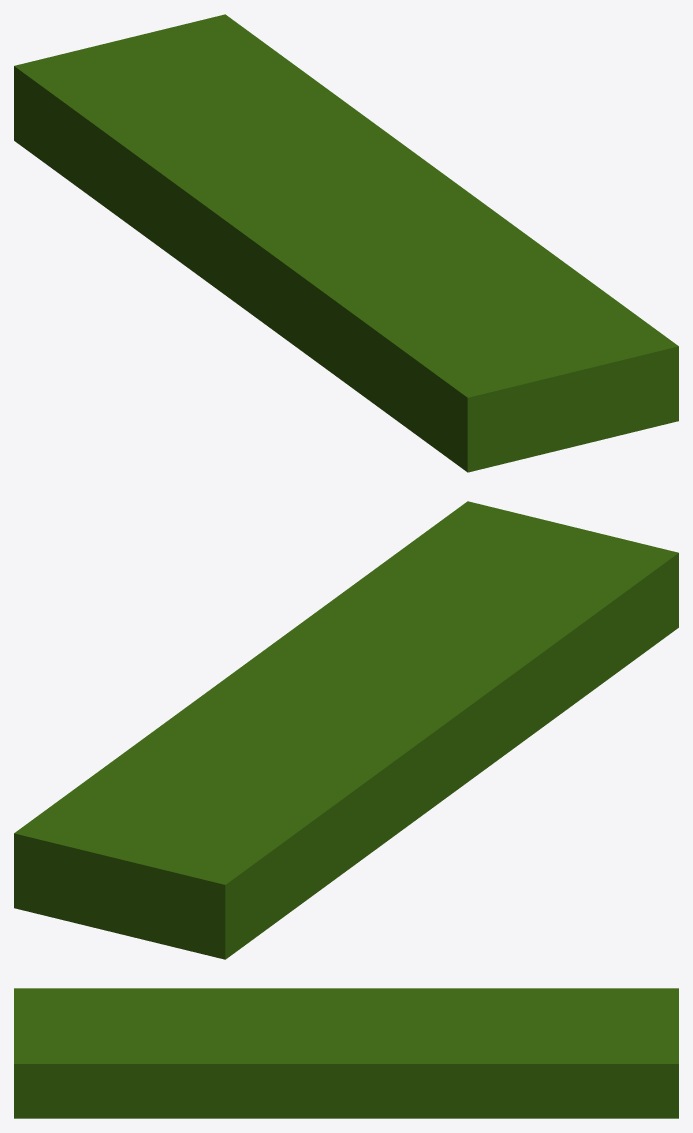
Rendered from trolley.glb.
3 renders of one model, top to bottom at view 1: azimuth 30°, elevation 25°; view 2: azimuth 150°, elevation 25°; view 3: azimuth 270°, elevation 25°, orthographic. The views are drawn at different scales.
Parts seen in each view (by area): view 1: mesh3ds in; view 2: mesh3ds in; view 3: mesh3ds in.
Part boxes in pixels (x1,y1,x2,y2): mesh3ds in: (14, 14, 678, 472); mesh3ds in: (14, 501, 678, 959); mesh3ds in: (14, 988, 678, 1118).
Bounding box in the file's own units: 3.58 × 1.21 × 13.32.
1 material, 1 textured.
